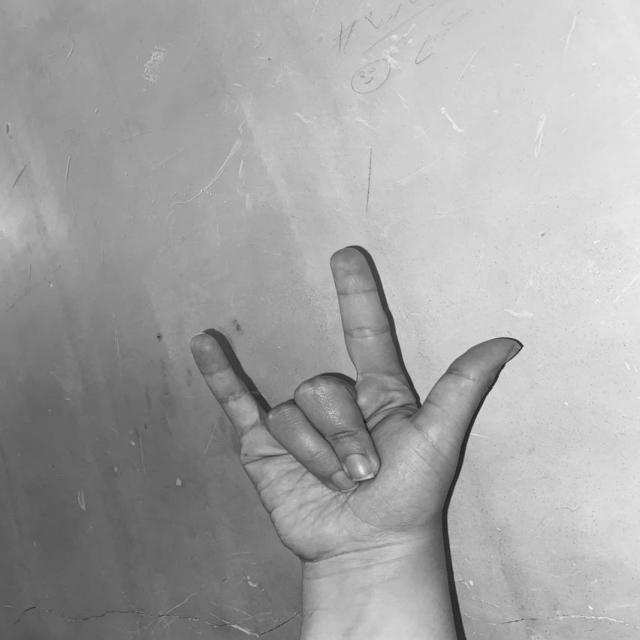i love you: (177, 239, 532, 564)
